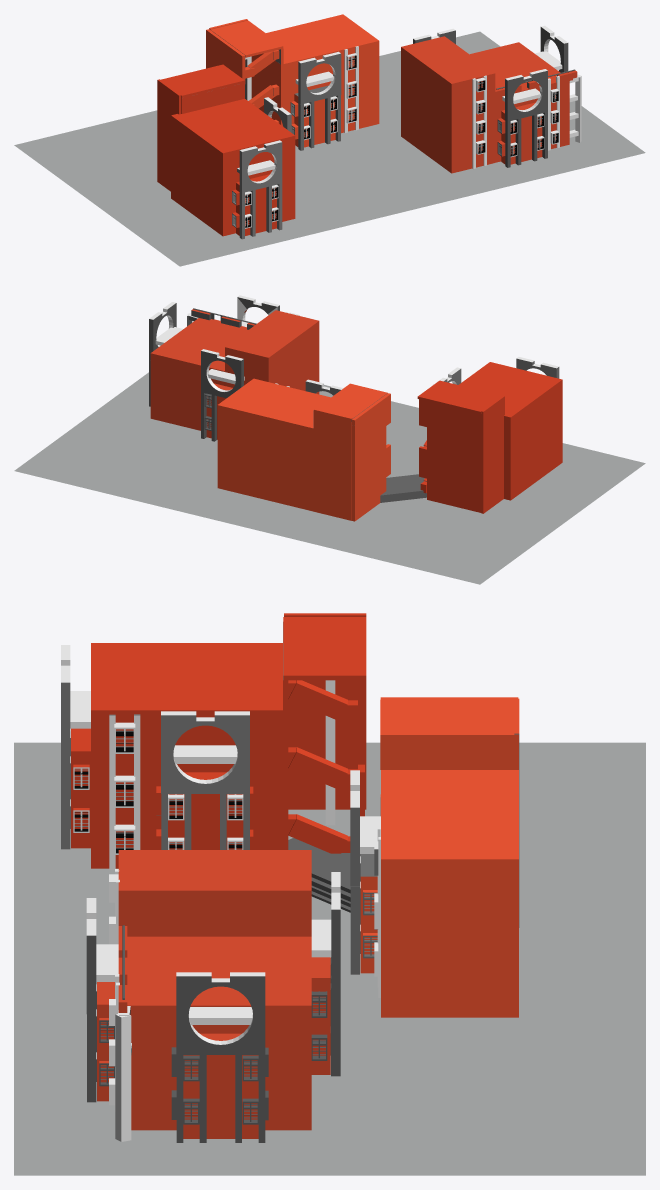
Rendered from college.glb.
3 renders of one model, top to bottom at view 1: azimuth 30°, elevation 25°; view 2: azimuth 150°, elevation 25°; view 3: azimuth 270°, elevation 25°, orthographic. The views are drawn at different scales.
Visible parts, largest first — view 1: Plane, Block_1, Block_5, Block_3; view 2: Plane, Block_3, Block_5, Block_1, Stairs; view 3: Plane, Block_1, Block_5, Block_3, Stairs.
Part boxes in pixels (<box>): Plane: <box>14,31,645,266</box>; Block_1: <box>401,25,581,173</box>; Block_5: <box>157,64,295,239</box>; Block_3: <box>206,14,379,150</box>; Plane: <box>14,372,645,584</box>; Block_3: <box>217,378,390,521</box>; Block_5: <box>417,357,562,513</box>; Block_1: <box>149,295,319,441</box>; Stairs: <box>380,474,426,502</box>; Plane: <box>14,742,645,1175</box>; Block_1: <box>86,850,340,1142</box>; Block_5: <box>61,613,366,869</box>; Block_3: <box>350,697,519,1017</box>; Stairs: <box>288,838,360,912</box>.
Size of the model in its own units: 61.69 by 13.06 by 38.03.
